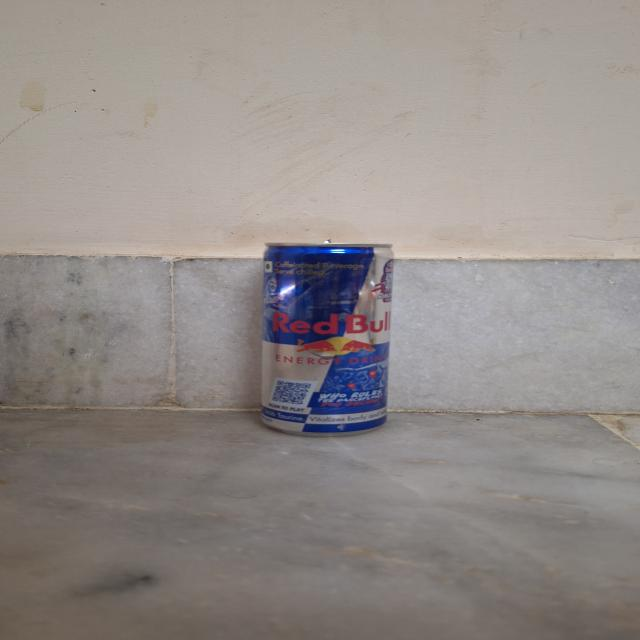Redbull DanceYourStyle: (213, 235, 415, 442)
